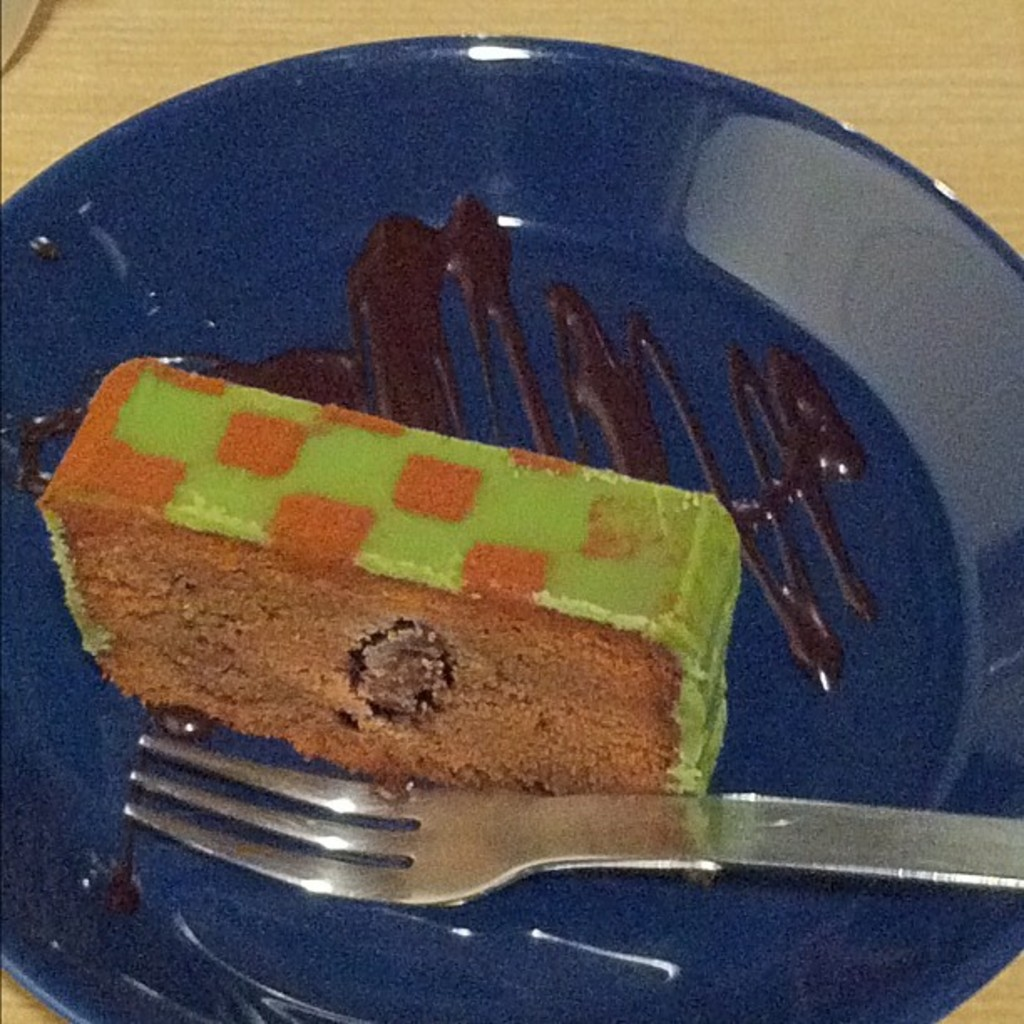cake: (20, 341, 756, 895)
